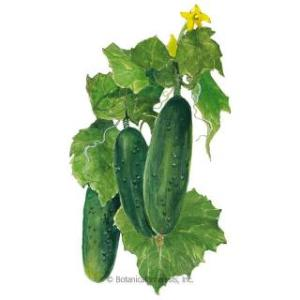cucumber: (140, 96, 192, 235), (113, 126, 153, 240), (82, 185, 120, 283)
